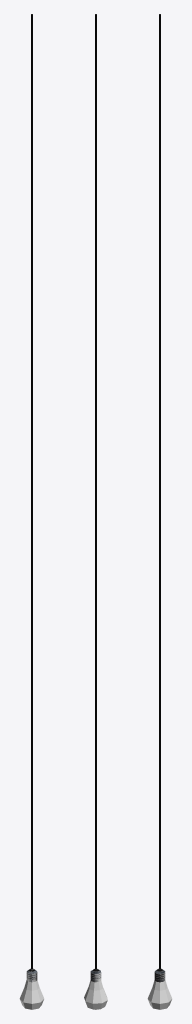
Rendered from lightbulb.fbx.
3 renders of one model, left to right at view 1: azimuth 90°, elevation 25°; view 2: azimuth 210°, elevation 25°; view 3: azimuth 270°, elevation 25°, orthographic.
Visible parts, largest first — view 1: Cylinder; view 2: Cylinder; view 3: Cylinder.
Part boxes in pixels (left/top/right/bottom): Cylinder: left=19, top=14, right=44, bottom=1009; Cylinder: left=84, top=14, right=107, bottom=1009; Cylinder: left=147, top=14, right=172, bottom=1009.
Bounding box in the file's own units: 5.98 × 265 × 5.98.
Materials: 3 (1 with a texture image).
